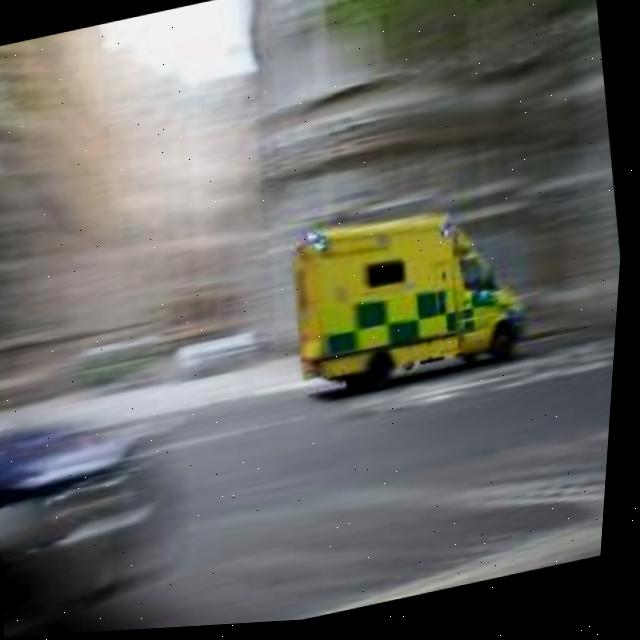emergency: (259, 189, 580, 424)
